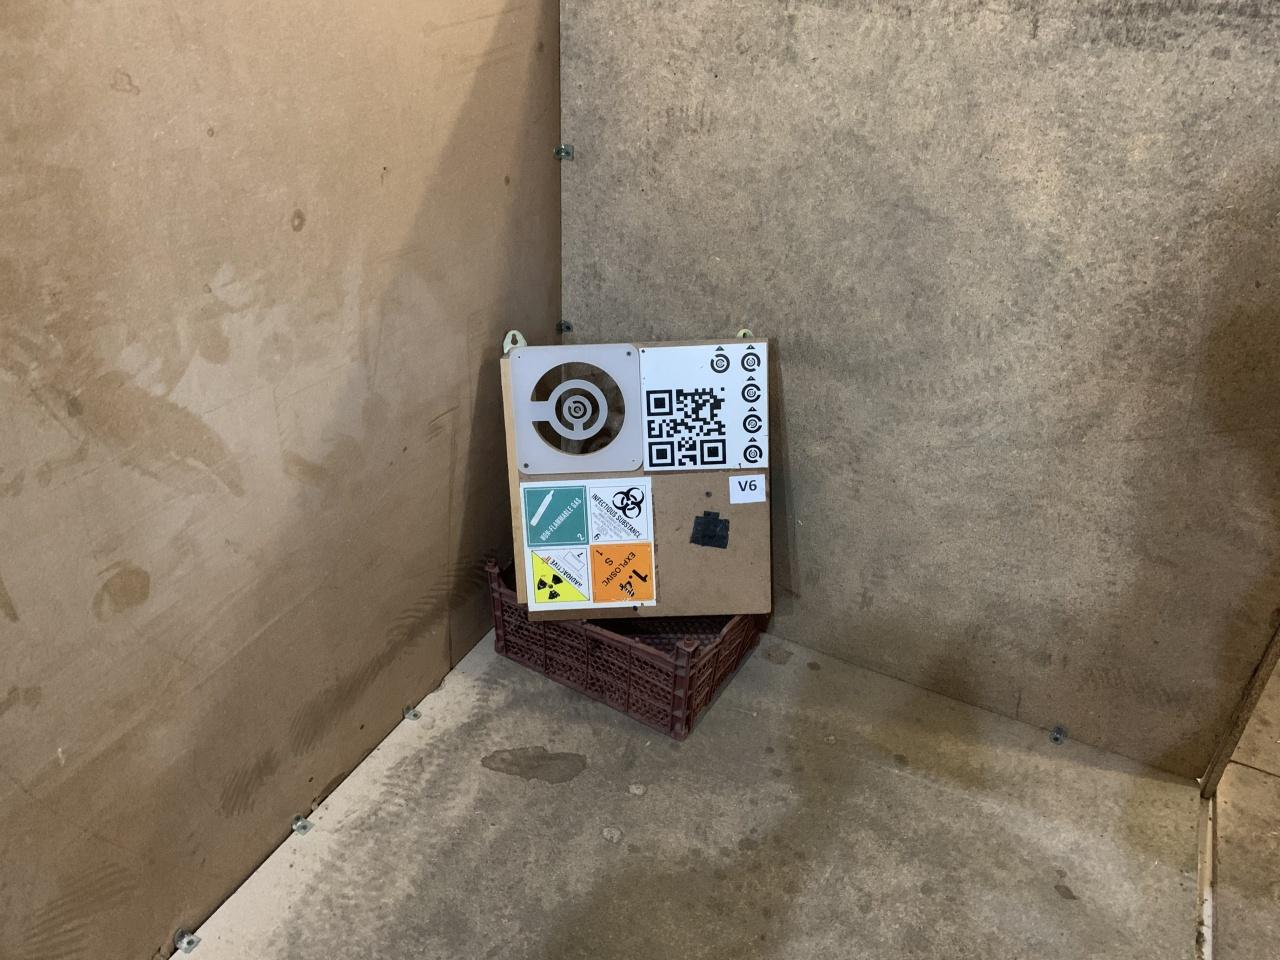explosive: (591, 544, 658, 603)
infectious-substance: (588, 484, 653, 543)
non-flammable-gas: (523, 486, 589, 547)
radioactive: (528, 547, 592, 607)
